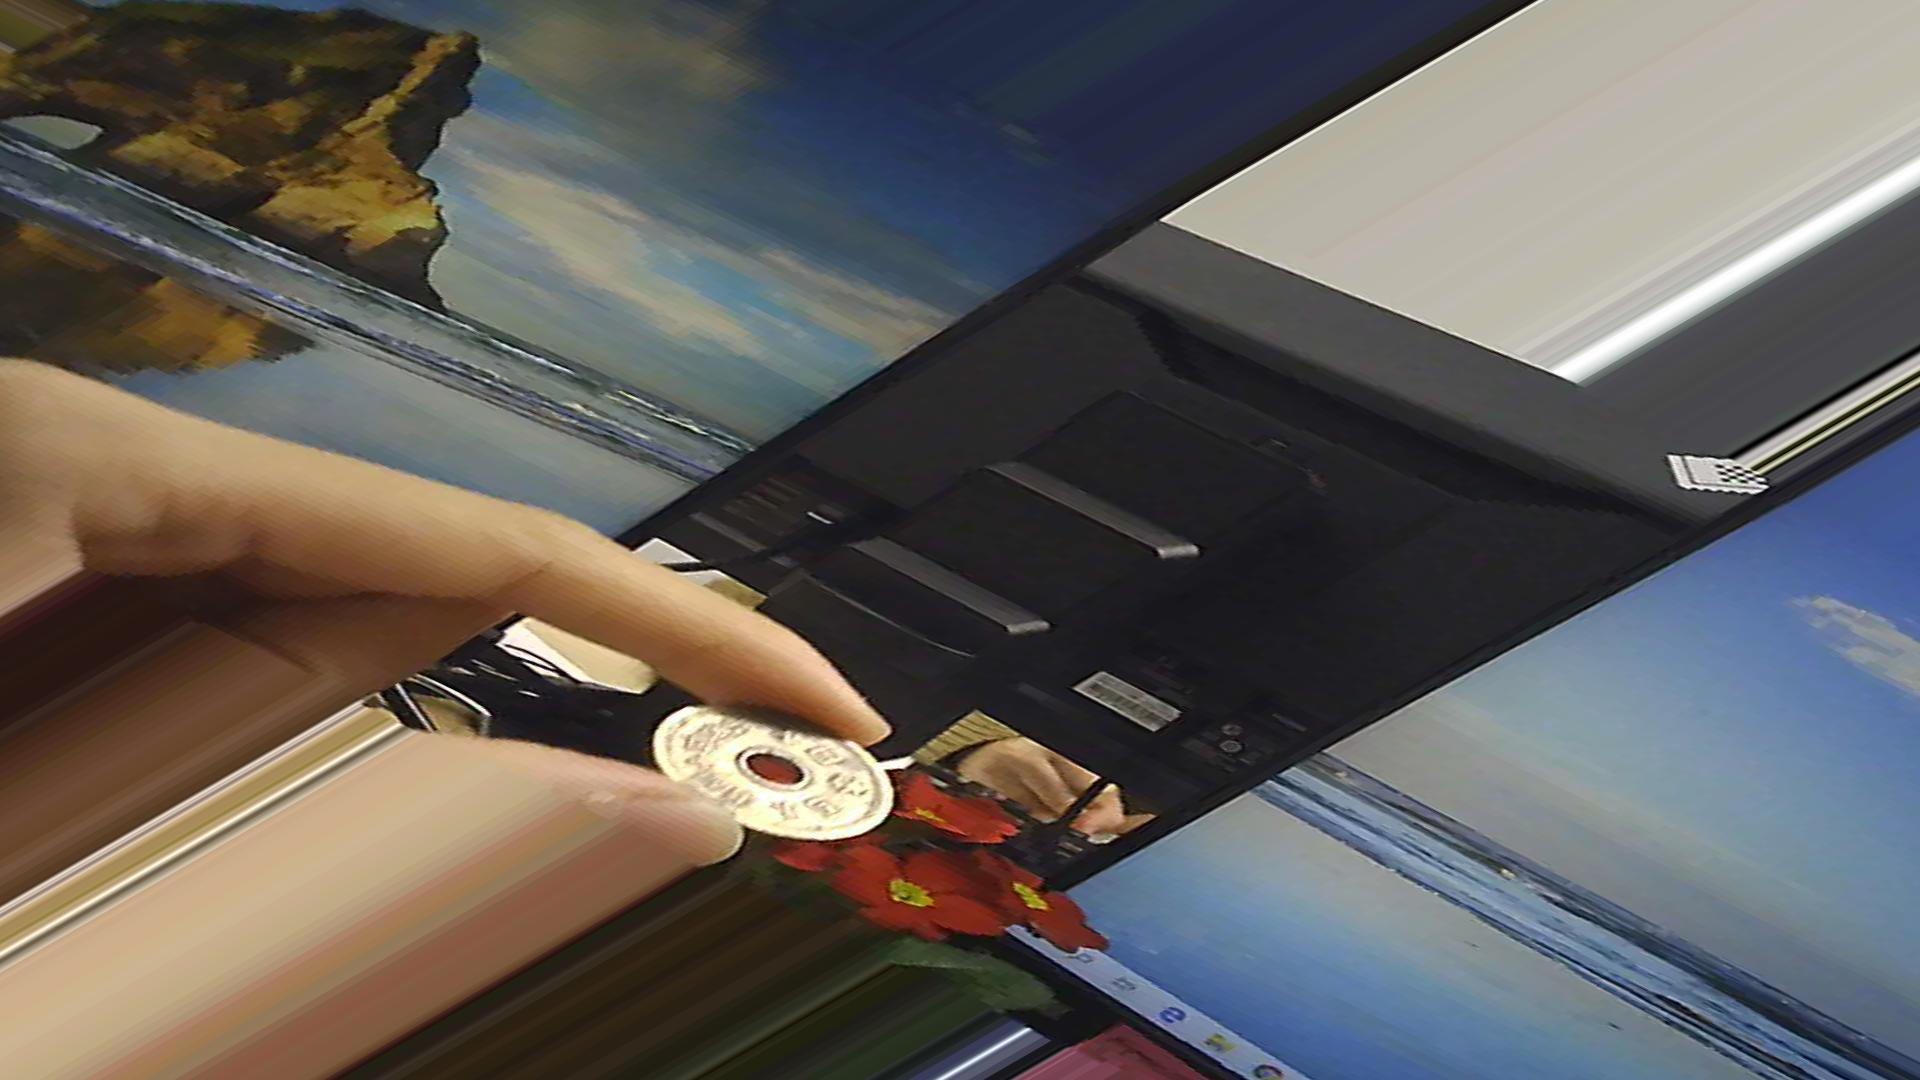5 Yen: (638, 692, 899, 836)
